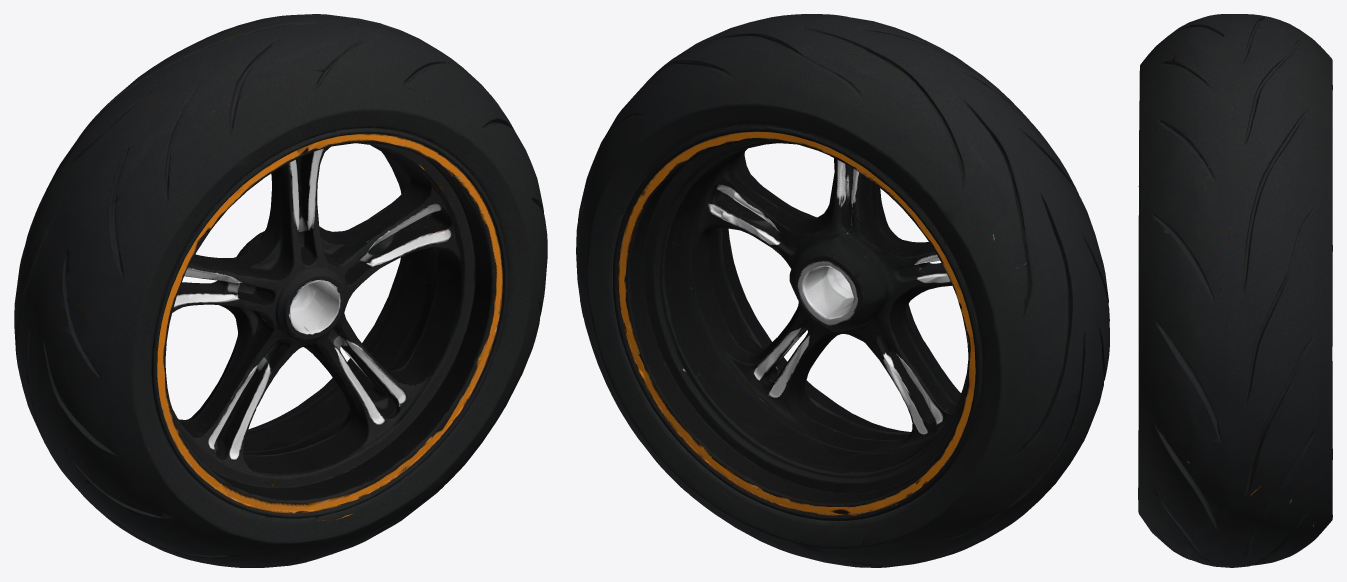
Rendered from Meshy_AI_Orange_Trim_Racing_Tire_20261118_texture_41459tris.glb.
The picture shows the model from 3 angles, left to right: view 1: azimuth 30°, elevation 25°; view 2: azimuth 150°, elevation 25°; view 3: azimuth 270°, elevation 25°; orthographic projection. The views are drawn at different scales.
Parts seen in each view (by area): view 1: Mesh_0; view 2: Mesh_0; view 3: Mesh_0.
Boxes of the visible parts, <box> form: Mesh_0: <box>14,14,547,567</box>; Mesh_0: <box>576,14,1109,567</box>; Mesh_0: <box>1138,14,1332,567</box>.
Size of the model in its own units: 190 by 190 by 67.04.
1 material, 1 textured.
